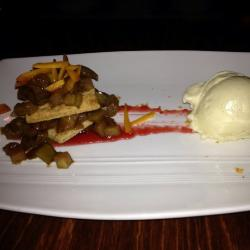icecream: (183, 70, 250, 141)
